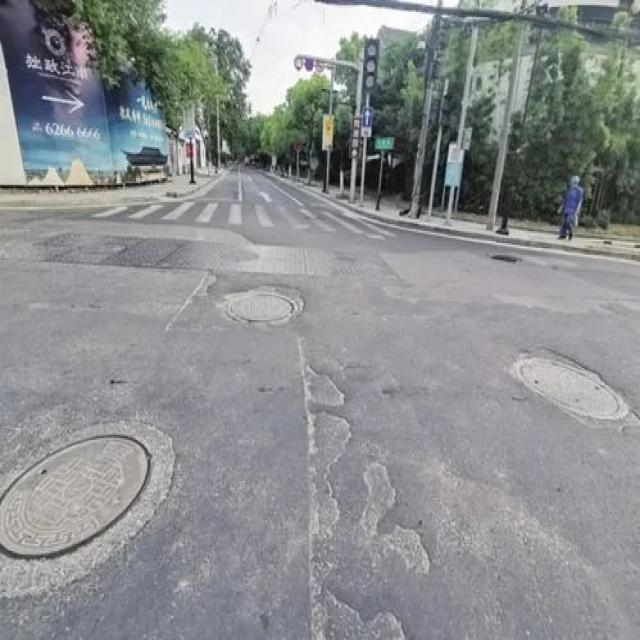Pothole: (302, 412, 406, 638), (511, 339, 636, 440), (359, 455, 427, 575), (222, 282, 306, 325), (299, 359, 346, 404)
